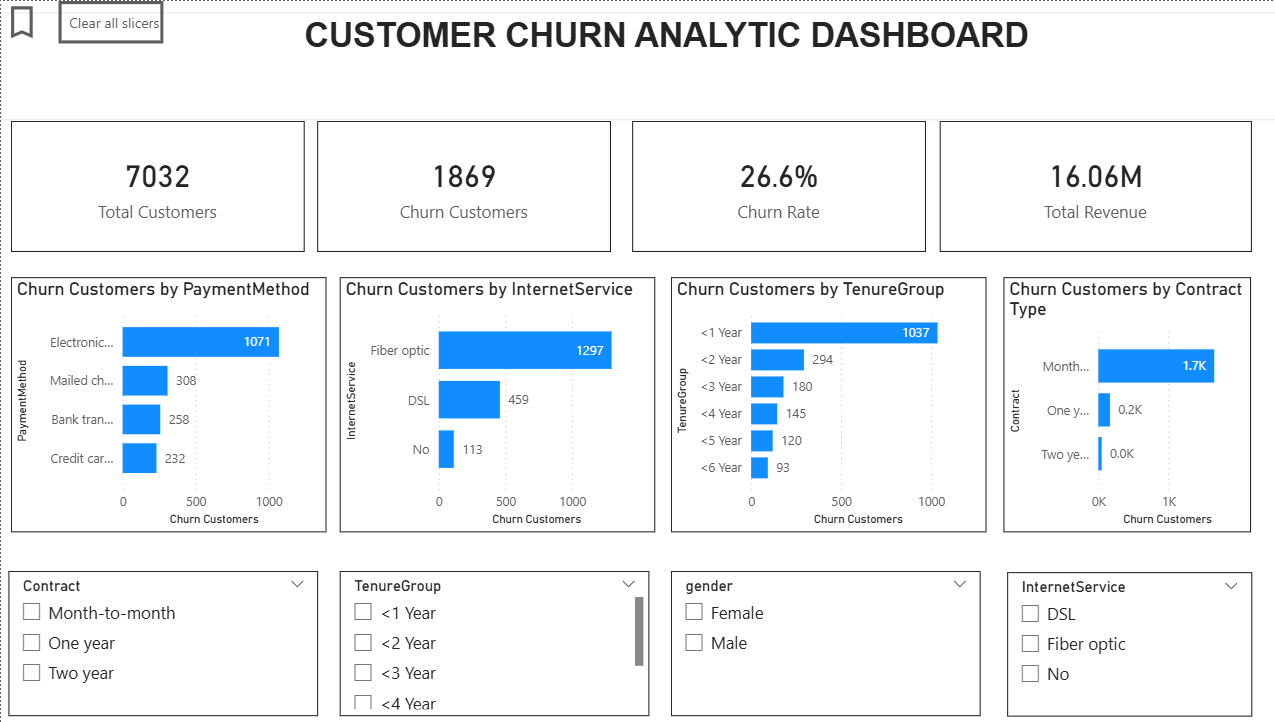

This screenshot's page, from the dashboard's own definition file:
{"tool":"powerbi","page":{"name":"EXECUTIVE OVERVIEW","canvas":[1280,720],"ordinal":0},"visuals":[{"type":"card","fields":{"Values":["customer_churn_cleaned.Total Customers"]},"box":[9.6,113.9,279.9,124.9],"z":0},{"type":"card","fields":{"Values":["customer_churn_cleaned.Churn Customers"]},"box":[301.9,113.9,279.9,124.9],"z":1000},{"type":"card","fields":{"Values":["customer_churn_cleaned.Churn Rate"]},"box":[602.4,113.9,279.9,124.9],"z":2000},{"type":"card","fields":{"Values":["customer_churn_cleaned.Total Revenue"]},"box":[894.7,113.9,297.8,124.9],"z":3000},{"type":"clusteredBarChart","title":"Churn Customers by Contract Type","fields":{"Category":["customer_churn_cleaned.Contract"],"Y":["customer_churn_cleaned.Churn Customers"]},"box":[956.4,263.5,236,242.9],"z":4000},{"type":"clusteredBarChart","fields":{"Category":["customer_churn_cleaned.InternetService"],"Y":["customer_churn_cleaned.Churn Customers"]},"box":[322.5,263.5,300.5,242.9],"z":5000},{"type":"clusteredBarChart","fields":{"Category":["customer_churn_cleaned.PaymentMethod"],"Y":["customer_churn_cleaned.Churn Customers"]},"box":[9.6,263.5,300.5,242.9],"z":6000},{"type":"clusteredBarChart","fields":{"Category":["customer_churn_cleaned.TenureGroup"],"Y":["customer_churn_cleaned.Churn Customers"]},"box":[639.5,263.5,300.5,242.9],"z":7000},{"type":"slicer","fields":{"Values":["customer_churn_cleaned.Contract"]},"box":[6.9,543.4,295,138.6],"z":8000},{"type":"slicer","fields":{"Values":["customer_churn_cleaned.InternetService"]},"box":[959.2,544.8,233.3,137.2],"z":9000},{"type":"slicer","fields":{"Values":["customer_churn_cleaned.gender"]},"box":[639.5,543.4,295,138.6],"z":10000},{"type":"slicer","fields":{"Values":["customer_churn_cleaned.TenureGroup"]},"box":[322.5,543.4,295,138.6],"z":11000},{"type":"textbox","box":[0,11,1269.3,102.9],"z":12000},{"type":"actionButton","box":[0,0,100,40],"z":12001},{"type":"actionButton","box":[54.8,0,100.1,40.5],"z":12002}]}

Visuals, with their boxes on the page's 1280x720 design canvas (x1, y1, x2, y2). These are canvas units, not pixel positions in the 1275x722 screenshot, which may show the page scaled, cropped or inside an application window:
card - customer_churn_cleaned.Total Customers: bbox=[10, 114, 290, 239]
card - customer_churn_cleaned.Churn Customers: bbox=[302, 114, 582, 239]
card - customer_churn_cleaned.Churn Rate: bbox=[602, 114, 882, 239]
card - customer_churn_cleaned.Total Revenue: bbox=[895, 114, 1192, 239]
"Churn Customers by Contract Type" clusteredBarChart: bbox=[956, 264, 1192, 506]
clusteredBarChart - customer_churn_cleaned.InternetService x customer_churn_cleaned.Churn Customers: bbox=[322, 264, 623, 506]
clusteredBarChart - customer_churn_cleaned.PaymentMethod x customer_churn_cleaned.Churn Customers: bbox=[10, 264, 310, 506]
clusteredBarChart - customer_churn_cleaned.TenureGroup x customer_churn_cleaned.Churn Customers: bbox=[640, 264, 940, 506]
slicer - customer_churn_cleaned.Contract: bbox=[7, 543, 302, 682]
slicer - customer_churn_cleaned.InternetService: bbox=[959, 545, 1192, 682]
slicer - customer_churn_cleaned.gender: bbox=[640, 543, 934, 682]
slicer - customer_churn_cleaned.TenureGroup: bbox=[322, 543, 618, 682]
textbox: bbox=[0, 11, 1269, 114]
actionButton: bbox=[0, 0, 100, 40]
actionButton: bbox=[55, 0, 155, 40]
